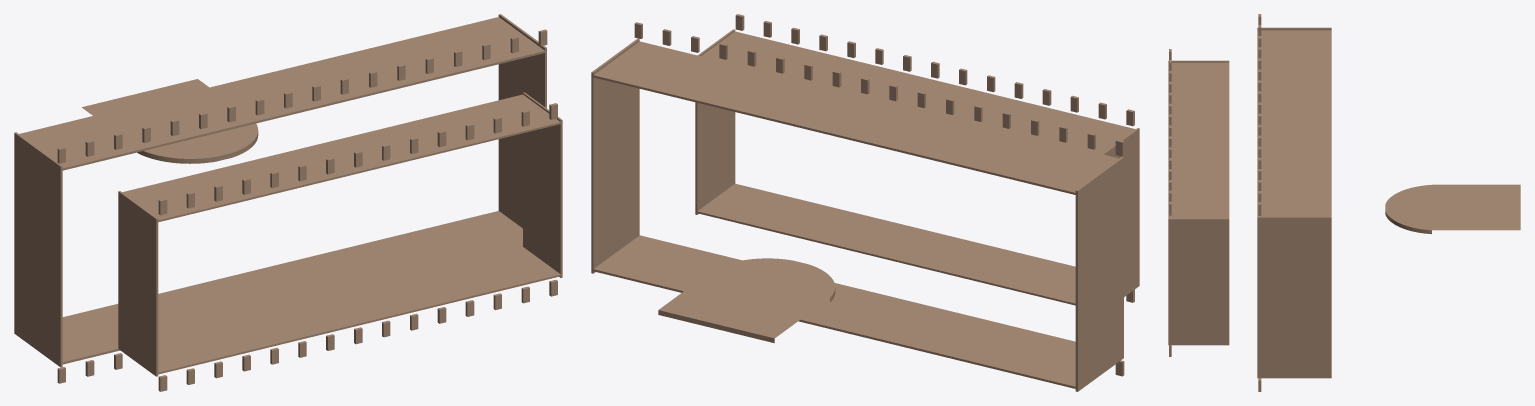
Rendered from SM_Zhengximen_AgedWood.glb.
The picture shows the model from 3 angles, left to right: view 1: azimuth 30°, elevation 25°; view 2: azimuth 150°, elevation 25°; view 3: azimuth 270°, elevation 25°; orthographic projection. The views are drawn at different scales.
Parts seen in each view (by area): view 1: geometry_0; view 2: geometry_0; view 3: geometry_0.
Boxes of the visible parts, <box> form: geometry_0: <box>14,14,562,391</box>; geometry_0: <box>591,14,1139,391</box>; geometry_0: <box>1168,14,1520,391</box>.
Bounding box in the file's own units: 18.86 × 8.64 × 14.72.
